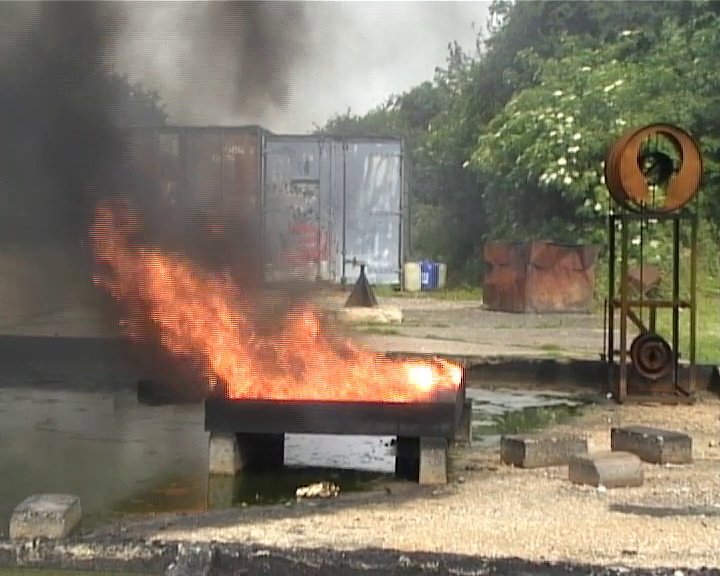fire: (96, 197, 461, 398)
